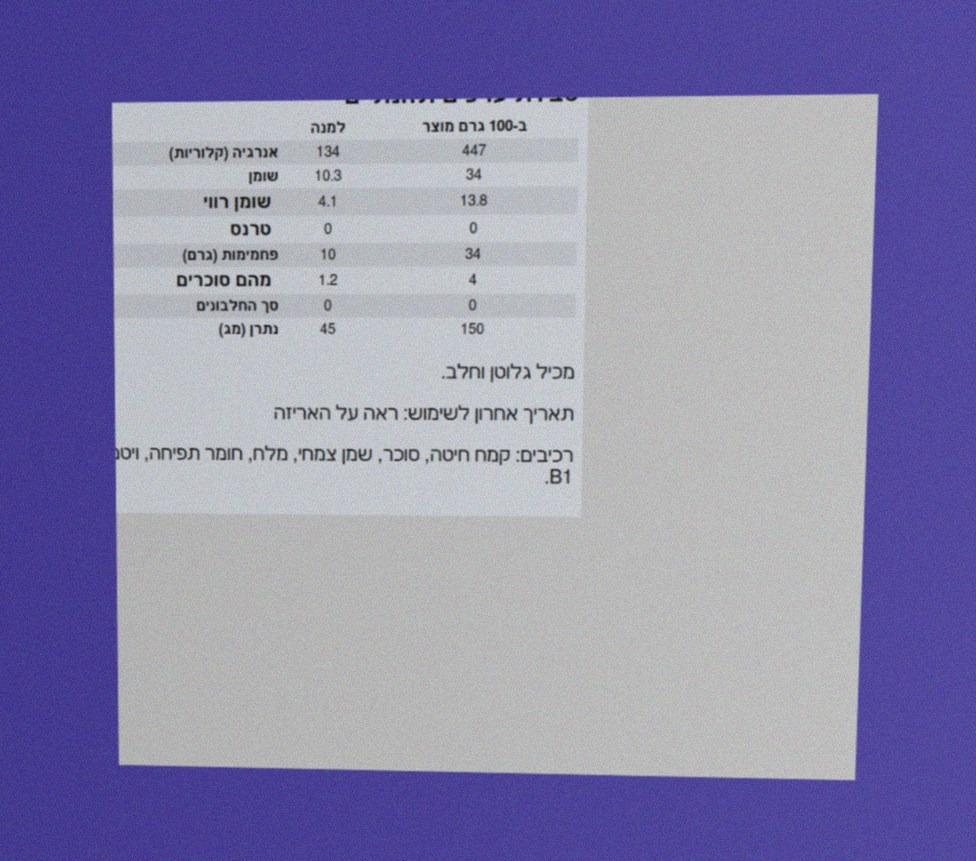carbs: (463, 245, 483, 264)
energy: (460, 141, 488, 160)
fat: (464, 166, 484, 184)
protein: (467, 297, 478, 315)
